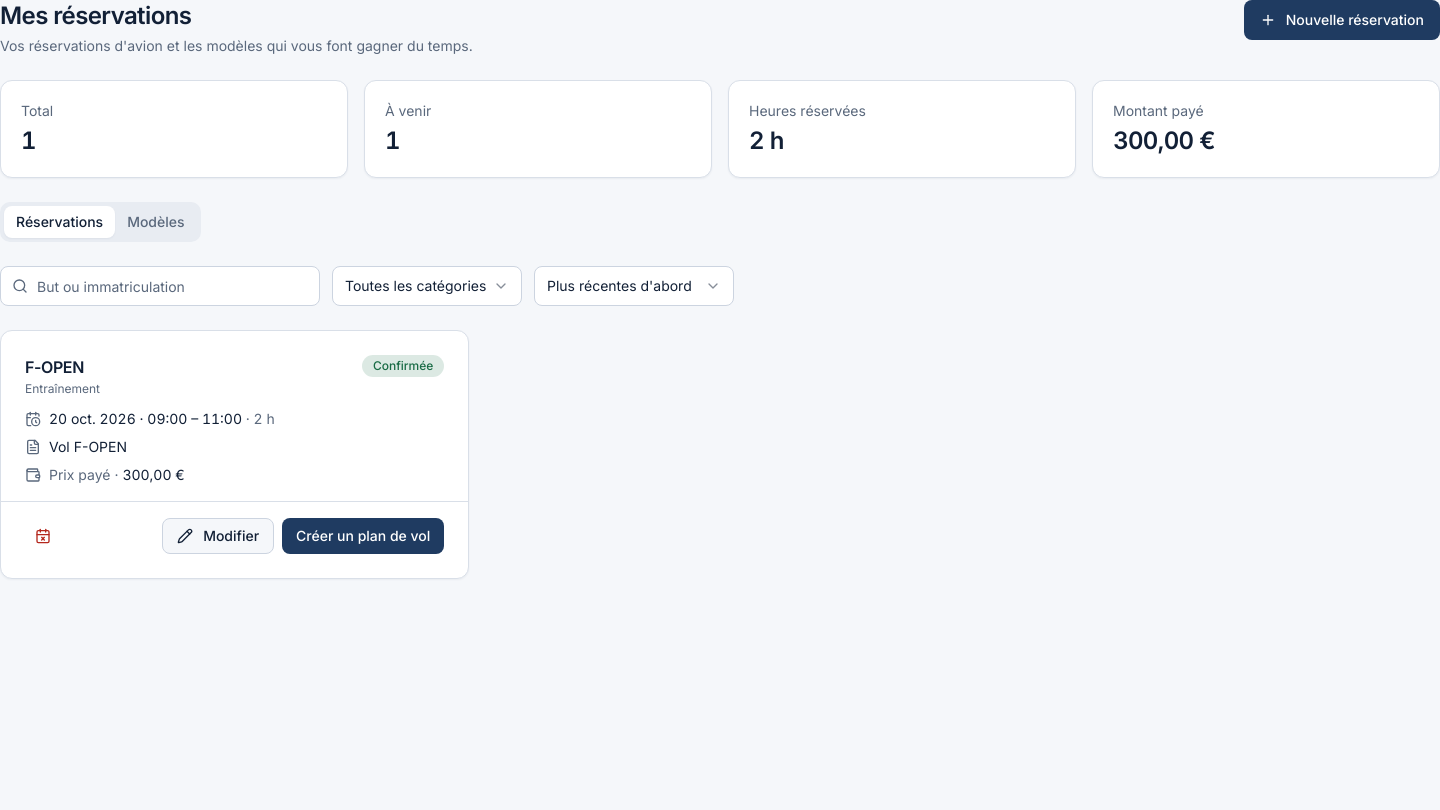
Test case: Mes réservations — annulation › propose aussi l’annulation depuis le panneau de modification
The width and height of the screenshot is (1440, 810).
expect the text "F-OPEN" is shown: met, box x1=25 y1=357 x2=84 y2=377
Click the button "Modifier" at (218, 536), box x1=162 y1=518 x2=274 y2=554
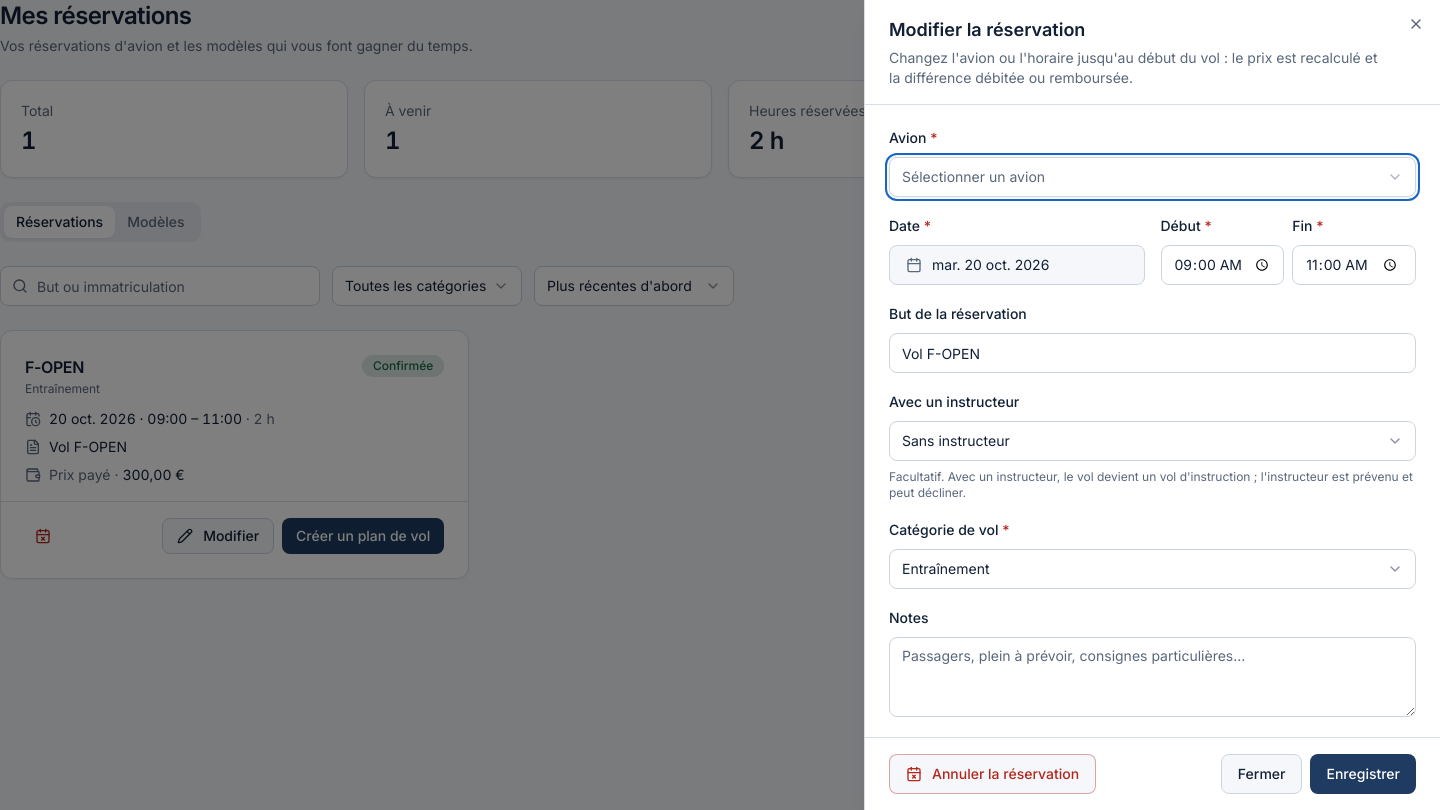
Click the button "Annuler la réservation" at (993, 774), box x1=889 y1=754 x2=1096 y2=794
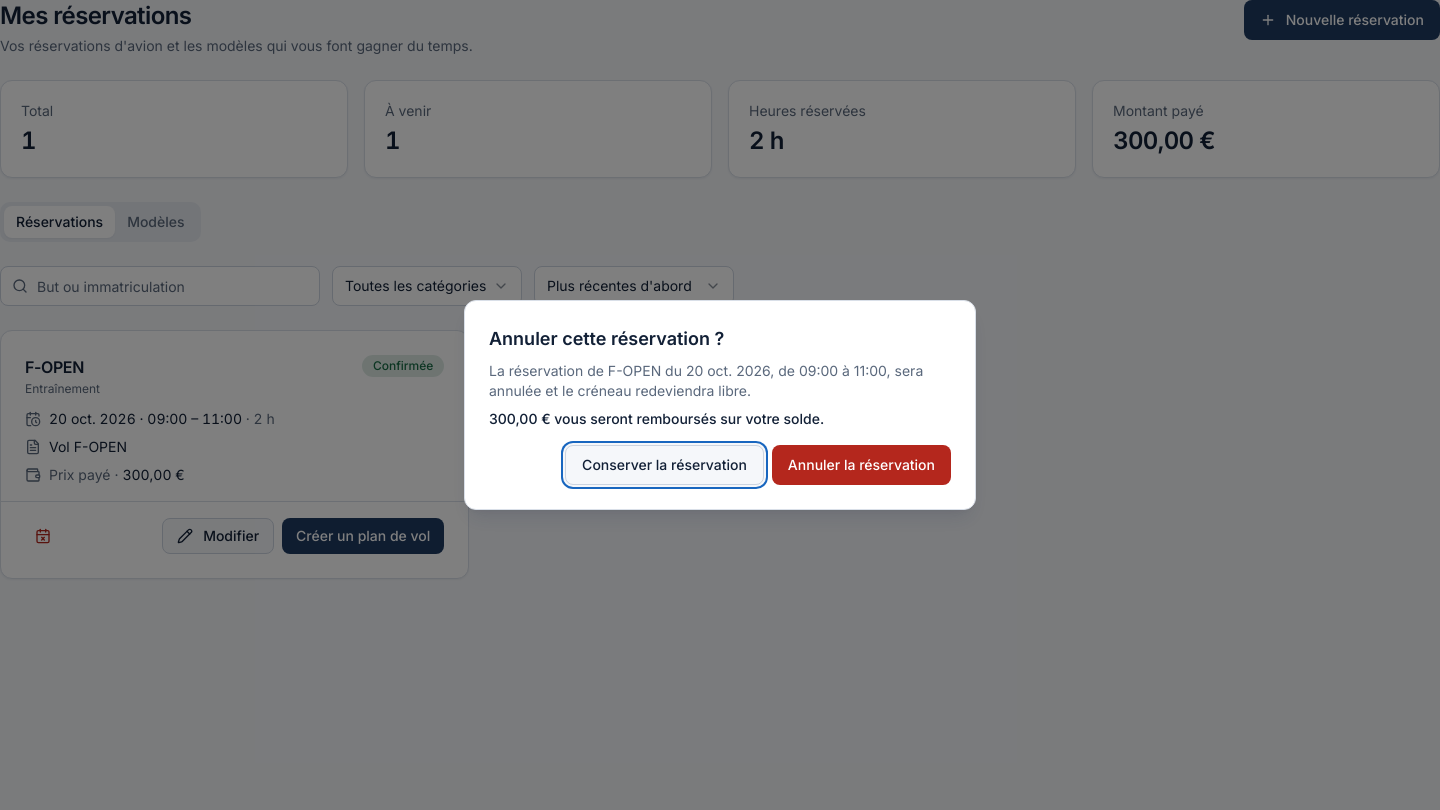
expect the dialog shows "La réservation de F-OPEN": met, box x1=489 y1=362 x2=923 y2=399
